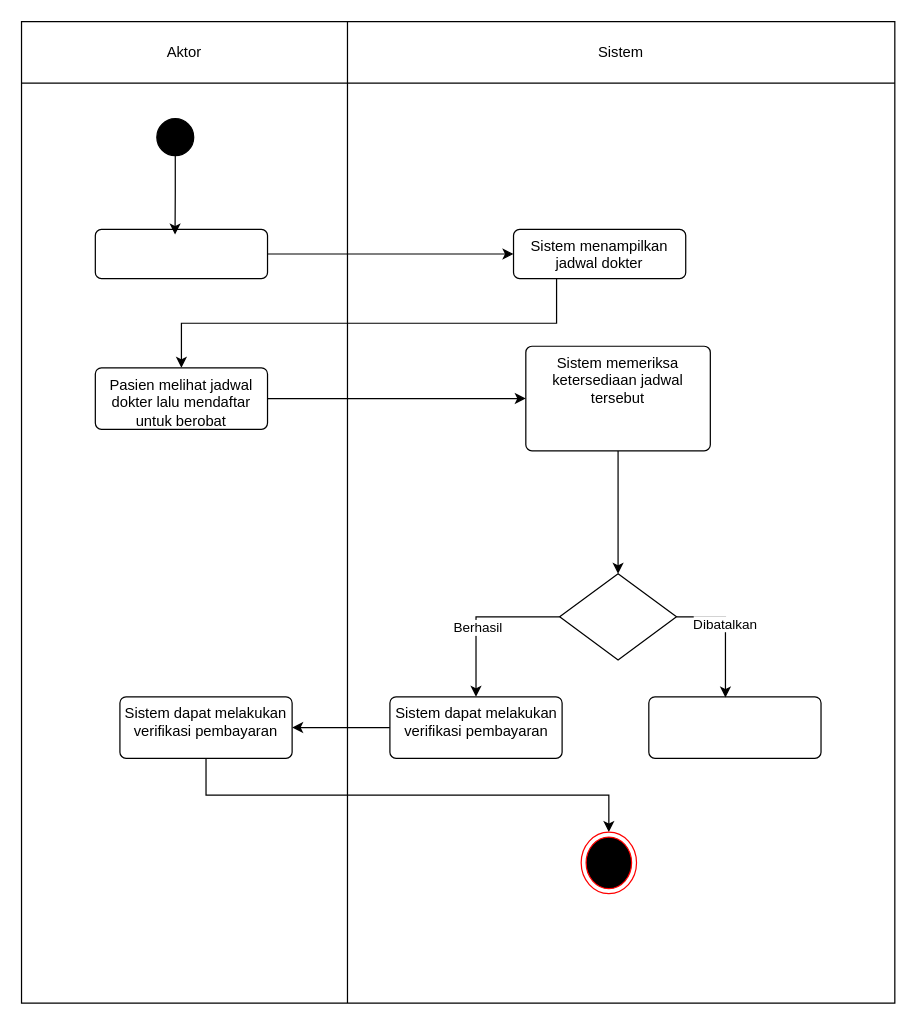
Some shapes in this 916 by 1025 pixel diagram are drawn without their labels. Each missing label, with the box of its shape:
Pasien membuka jadwal dokter: (94, 228, 268, 279)
Sistem membatalkan: (648, 696, 821, 758)
